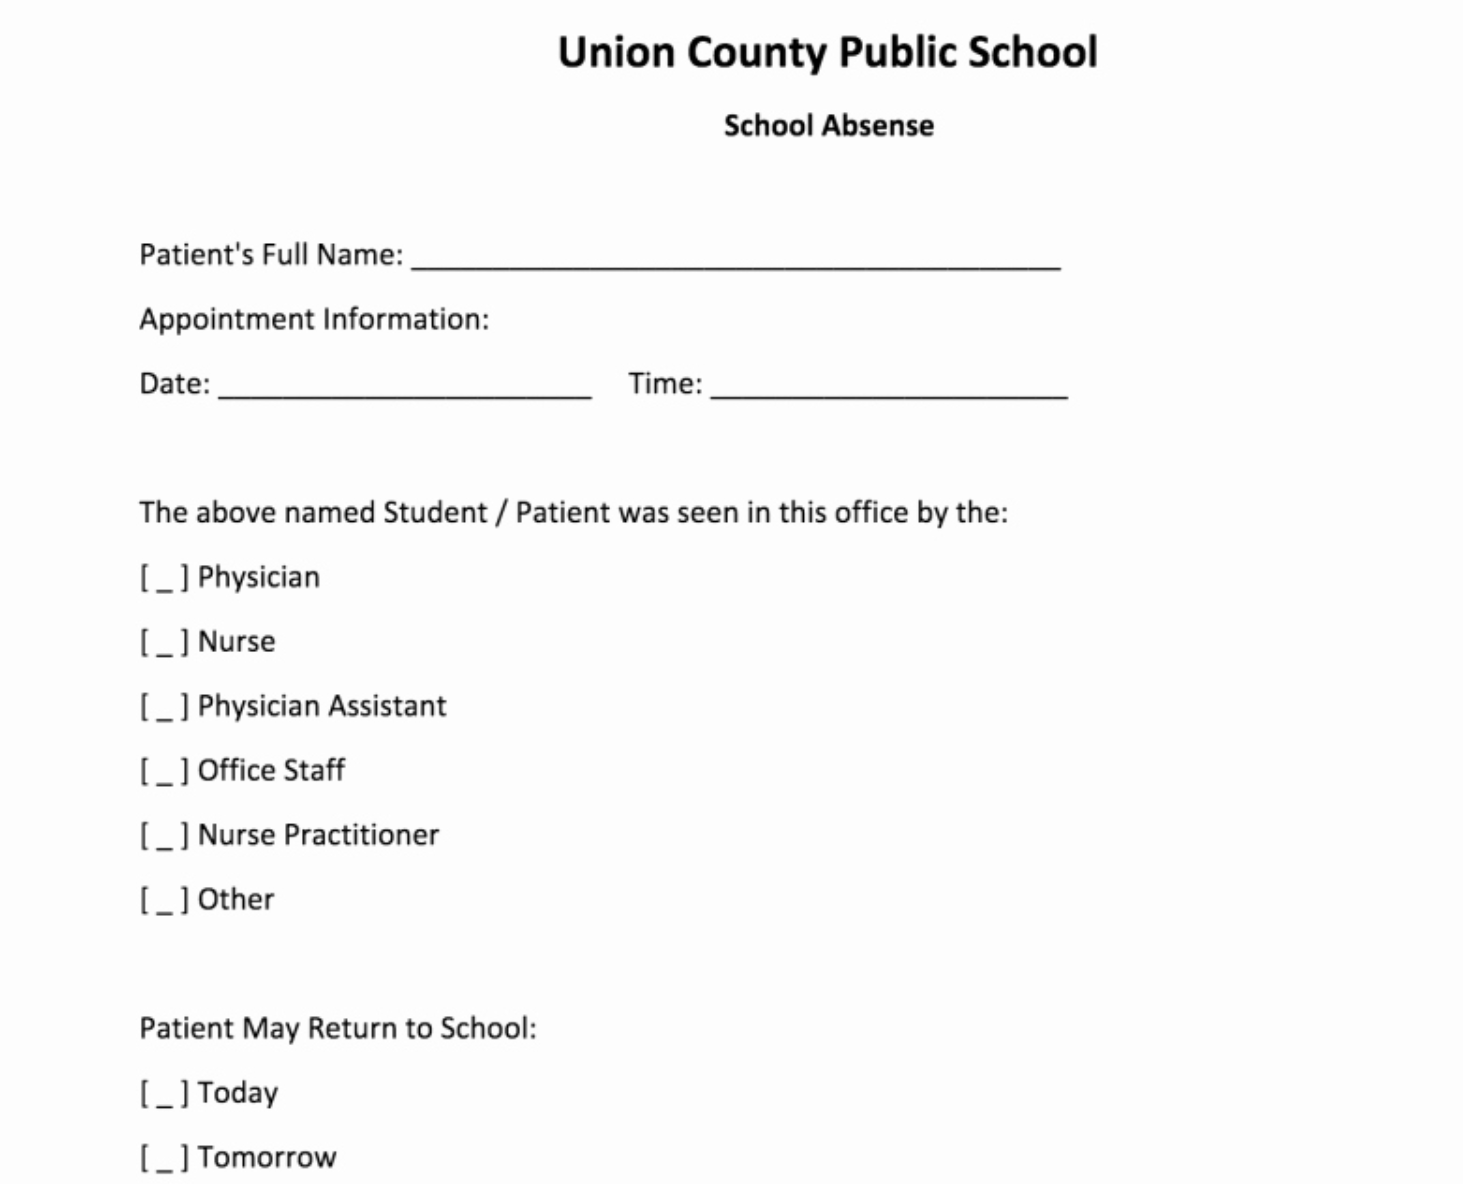checkbox: (133, 552, 193, 600), (138, 1070, 195, 1118), (134, 813, 192, 857), (137, 686, 195, 729), (135, 620, 195, 661), (135, 750, 193, 790), (137, 880, 195, 919), (137, 1139, 195, 1176)
textline: (401, 236, 1072, 280), (211, 359, 602, 408), (706, 358, 1073, 408)
